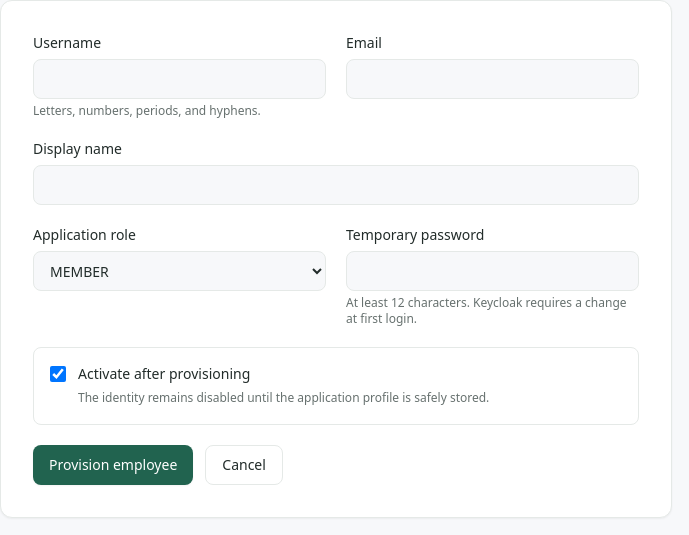
Test: employee administration › validates and submits provisioning without returning a credential
The width and height of the screenshot is (689, 535).
Type "new.user" into the field labelled "Username Letters, numbers, periods, and hyphens." at (180, 79), box x1=33 y1=59 x2=326 y2=99
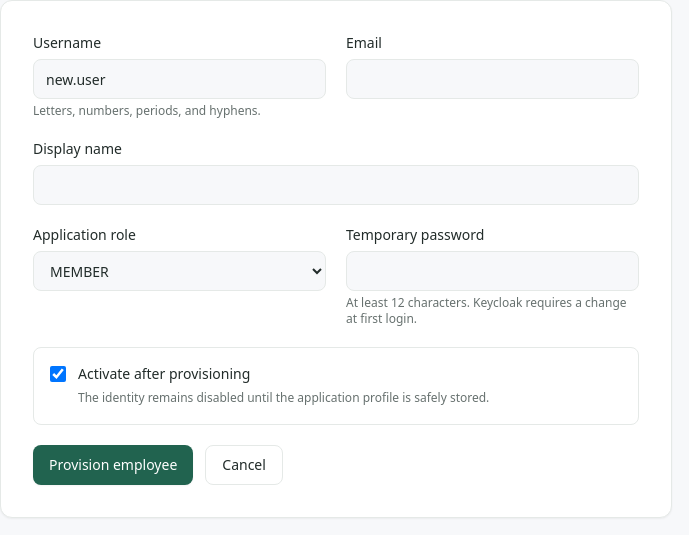
Type "new.user@example.test" into the field labelled "Email" at (492, 79), box x1=346 y1=59 x2=639 y2=99
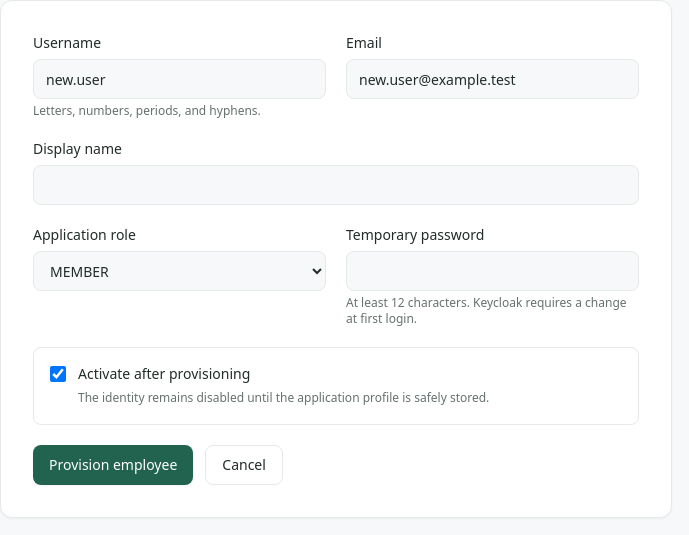
Type "New User" into the field labelled "Display name" at (336, 185), box x1=33 y1=165 x2=639 y2=205
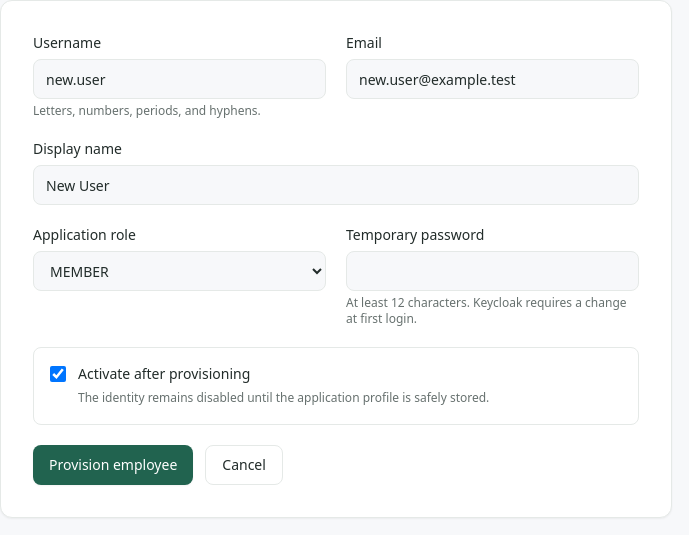
Type "temporary-password" into the password field labelled "Temporary password" at (492, 271), box x1=346 y1=251 x2=639 y2=291
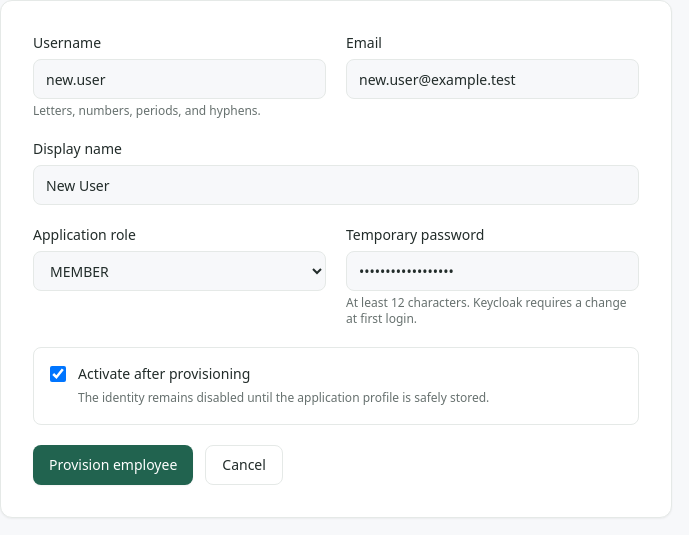
Submit the form named "Provision employee"
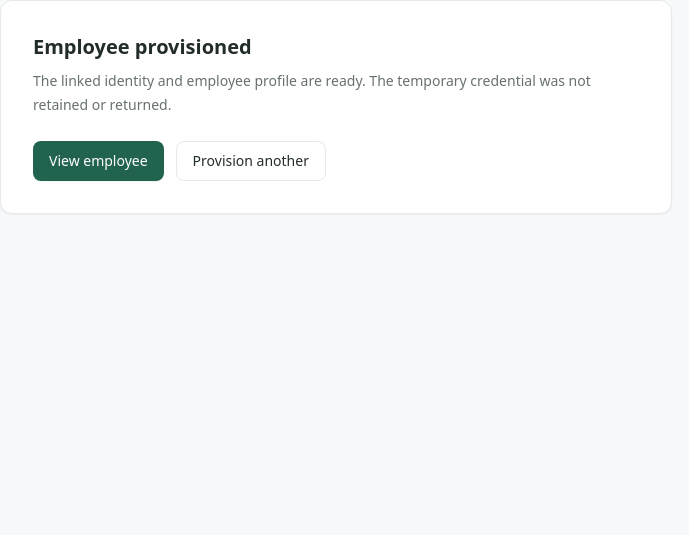
Result: the heading "Employee provisioned" is shown at x1=33 y1=33 x2=252 y2=60
